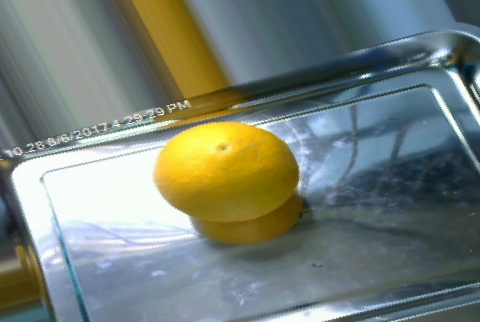Orange: (153, 120, 300, 222)
